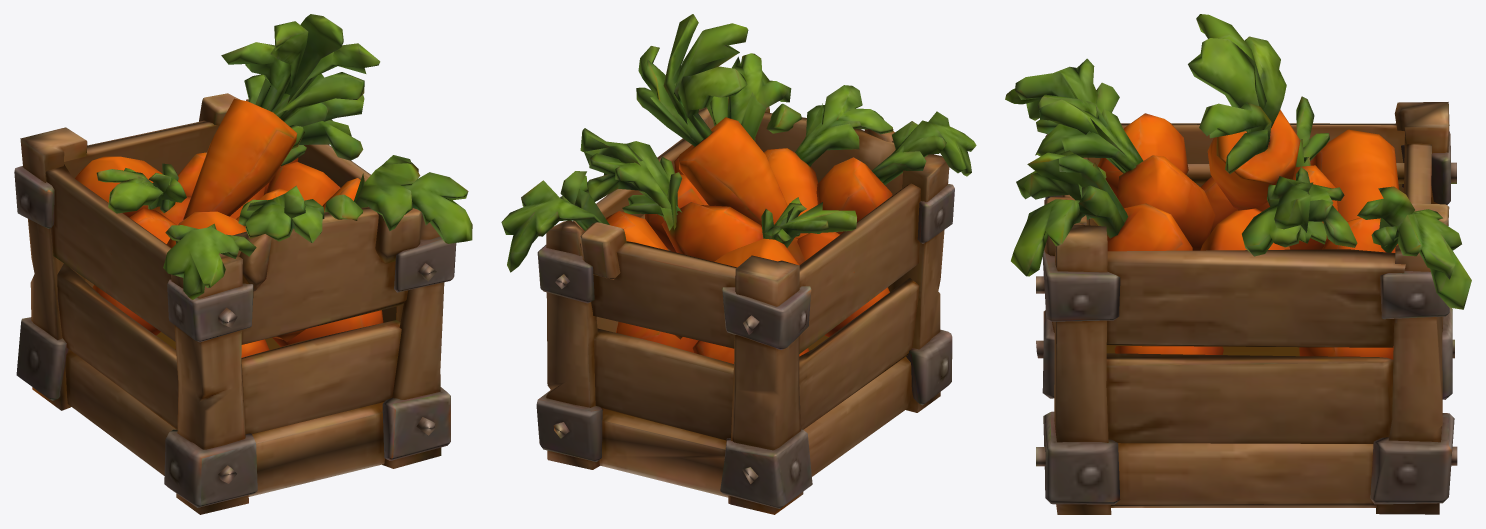
The model's file is caisse_carottes.glb.
3 views of the same model, side by side, from view 1: azimuth 30°, elevation 25°; view 2: azimuth 150°, elevation 25°; view 3: azimuth 270°, elevation 25° (orthographic). The views are drawn at different scales.
Visible parts, largest first — view 1: geometry_0; view 2: geometry_0; view 3: geometry_0.
Boxes of the visible parts, <box> form: geometry_0: <box>14,14,472,514</box>; geometry_0: <box>501,14,976,514</box>; geometry_0: <box>1005,14,1471,514</box>.
Bounding box in the file's own units: 0.7755 × 0.9531 × 0.8951.
1 material, 1 textured.
